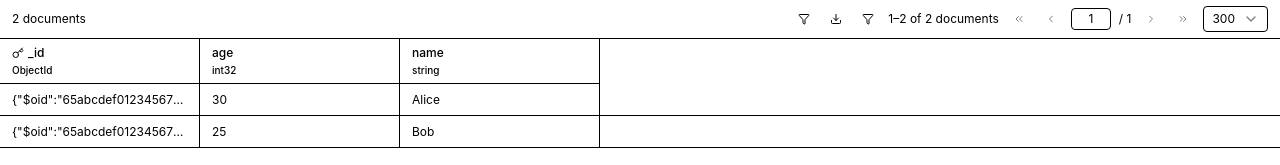
Scenario: DocumentDataGrid sort (Sprint 315) › renders ▲ indicator on the sorted column header
The image size is (1280, 165).
Expected: the text "Alice" is shown, [412,92,440,108]
Click the column heading "name string".
click(500, 62)  # box [400,39,600,84]
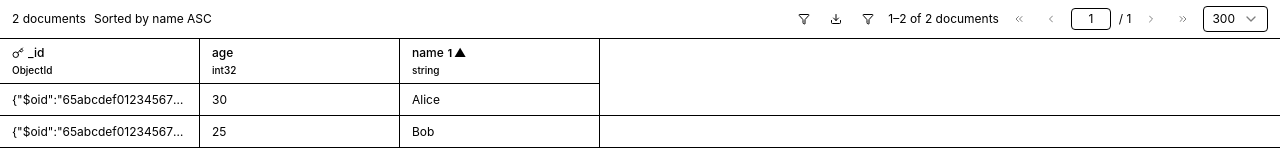
Result: the column heading "name 1 ▲ string" is shown at [400,39,600,84]
